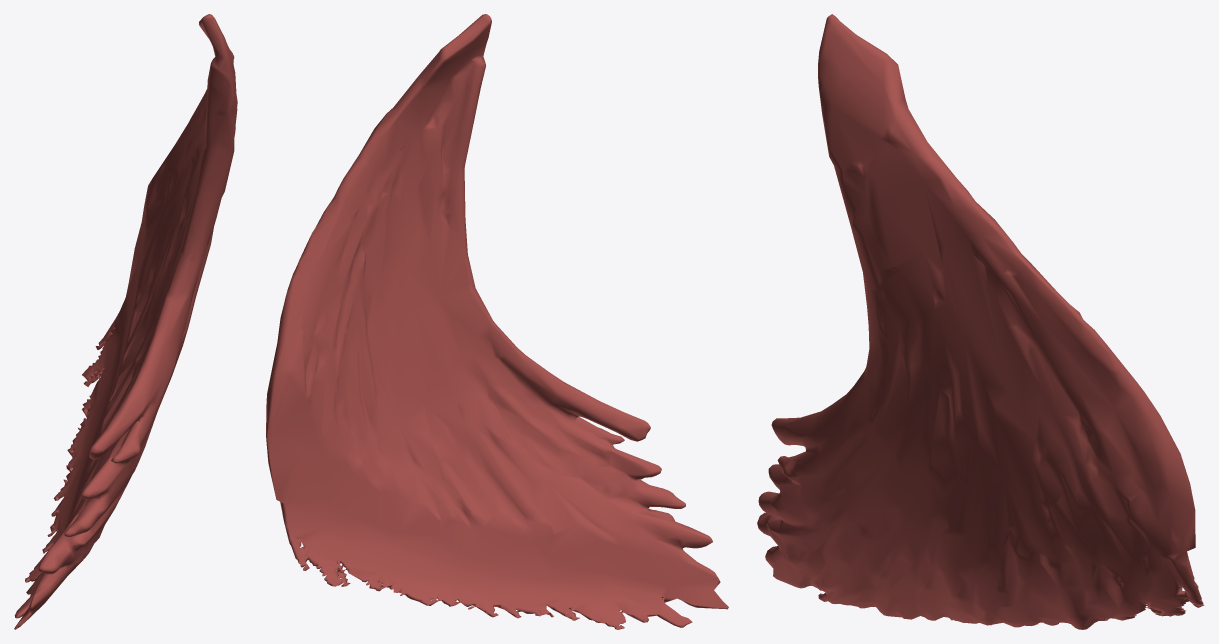
Rendered from FMA46830.glb.
3 renders of one model, left to right at view 1: azimuth 30°, elevation 25°; view 2: azimuth 150°, elevation 25°; view 3: azimuth 270°, elevation 25°, orthographic. The views are drawn at different scales.
Parts seen in each view (by area): view 1: FMA46830; view 2: FMA46830; view 3: FMA46830.
Part boxes in pixels (<box>): FMA46830: <box>14,14,237,629</box>; FMA46830: <box>266,14,728,629</box>; FMA46830: <box>757,14,1204,629</box>.
Size of the model in its own units: 0.0233 by 0.0404 by 0.0232.
